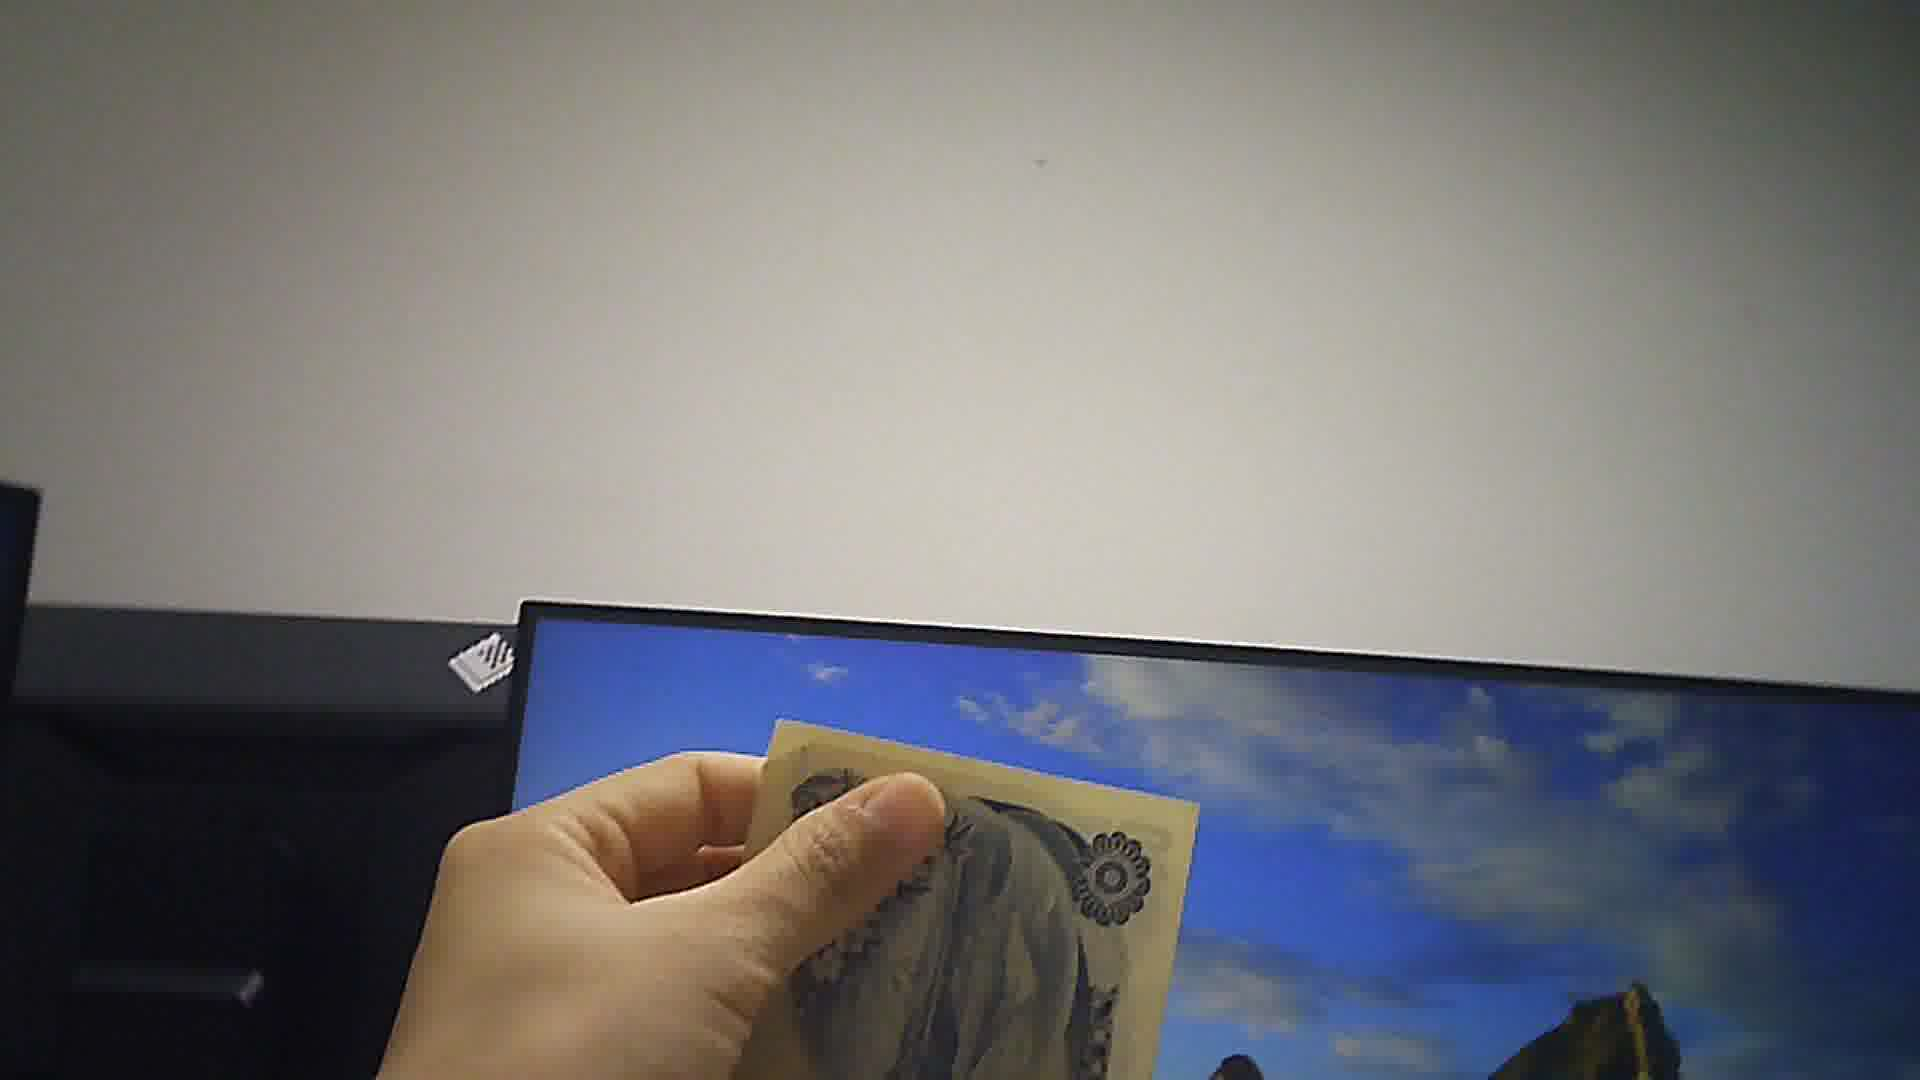1,000 Yen: (723, 715, 1174, 1079)
